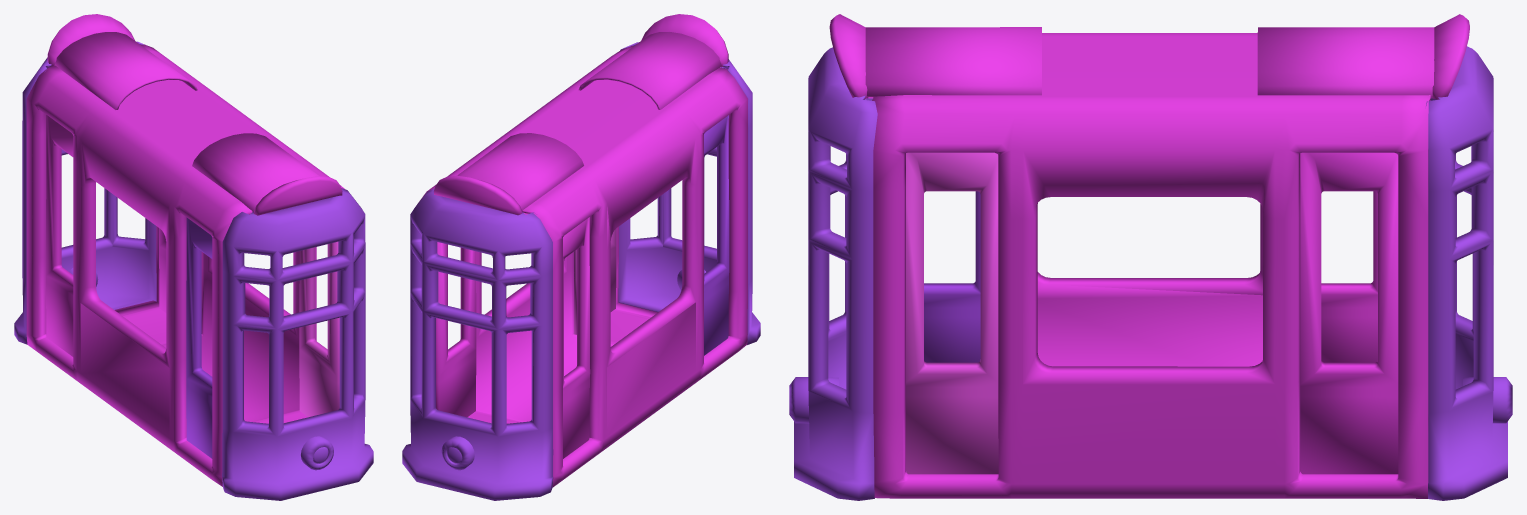
File: train.glb
3 views of the same model, side by side, from view 1: azimuth 30°, elevation 25°; view 2: azimuth 150°, elevation 25°; view 3: azimuth 270°, elevation 25° (orthographic). The views are drawn at different scales.
Parts seen in each view (by area): view 1: train.001, trainfront, trainDoorR, trainDoorL; view 2: train.001, trainfront, trainDoorR, trainDoorL; view 3: train.001, trainfront, trainDoorL, trainDoorR.
Boxes of the visible parts, <box> form: train.001: <box>26,14,344,486</box>; trainfront: <box>14,41,373,500</box>; trainDoorR: <box>186,217,212,458</box>; trainDoorL: <box>299,241,339,417</box>; train.001: <box>417,14,747,487</box>; trainfront: <box>402,42,760,500</box>; trainDoorR: <box>704,115,729,355</box>; trainDoorL: <box>573,229,616,334</box>; train.001: <box>829,14,1469,498</box>; trainfront: <box>789,46,1512,500</box>; trainDoorL: <box>906,152,998,474</box>; trainDoorR: <box>924,191,980,362</box>.
Size of the model in its own units: 1.31 by 2.63 by 4.01.
